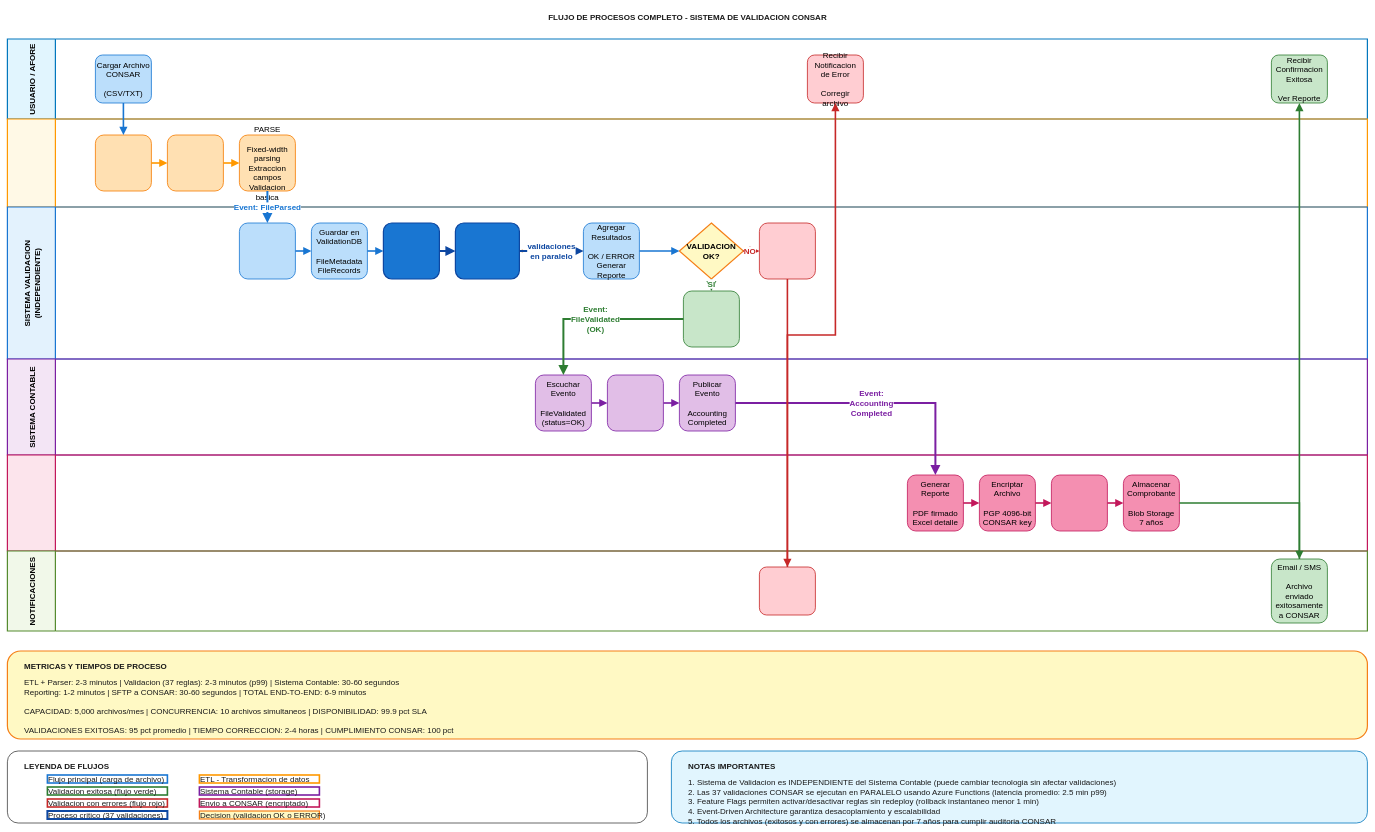
Some shapes in this 1375 by 832 pixel diagram are drawn without their labels. Each missing label, with the box of its shape:
Cargar Reglas Activas RulesDB Feature Flags: (383, 222, 440, 279)
EJECUTAR 37 VALIDADORES En Paralelo Azure Functions: (455, 222, 520, 279)
Email / SMS Error en validacion Ver detalles: (759, 566, 816, 615)
Enviar a CONSAR SFTP + TLS 1.3 Wait ACK: (1051, 474, 1108, 531)
ETL - PARSER: (7, 118, 1368, 207)
EXTRACT Extraer datos de SAP, Oracle, Aladdin, SFTP: (95, 134, 152, 191)
Guardar Registros ContableDB Transaccional: (607, 374, 664, 431)
Publicar Evento FileValidated status=ERROR + errores: (759, 222, 816, 279)
Publicar Evento FileValidated status=OK: (683, 290, 740, 347)
Recibir Archivo Parseado Event: FileParsed: (239, 222, 296, 279)
REPORTING - CONSAR: (7, 454, 1368, 551)
TRANSFORM Mapear a formato CONSAR (77 caracteres): (167, 134, 224, 191)
